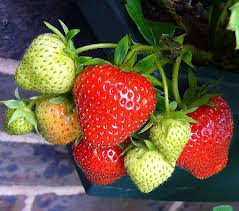strawberry: (71, 48, 157, 149), (163, 96, 233, 181), (73, 129, 134, 186)
